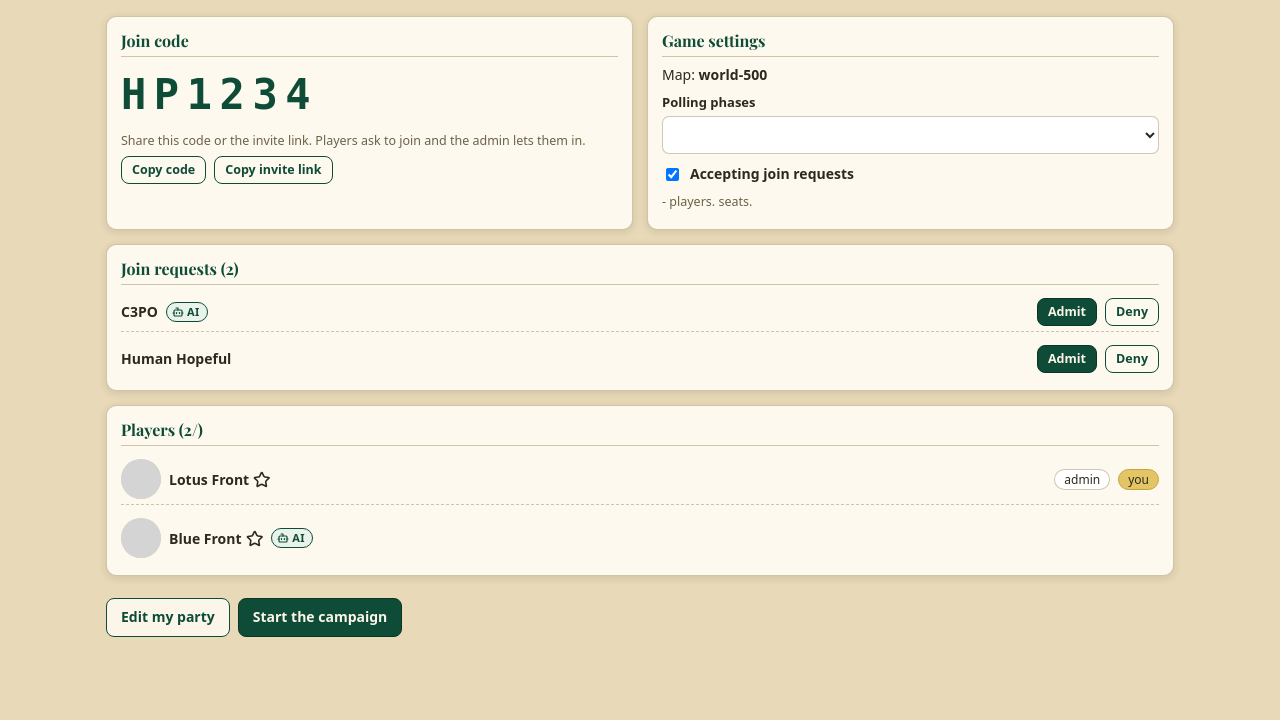
Scenario: Lobby › sharing the game › Copy invite link copies a join link for this game
Click the button "Copy invite link" at (273, 170), box [214,156,332,184]
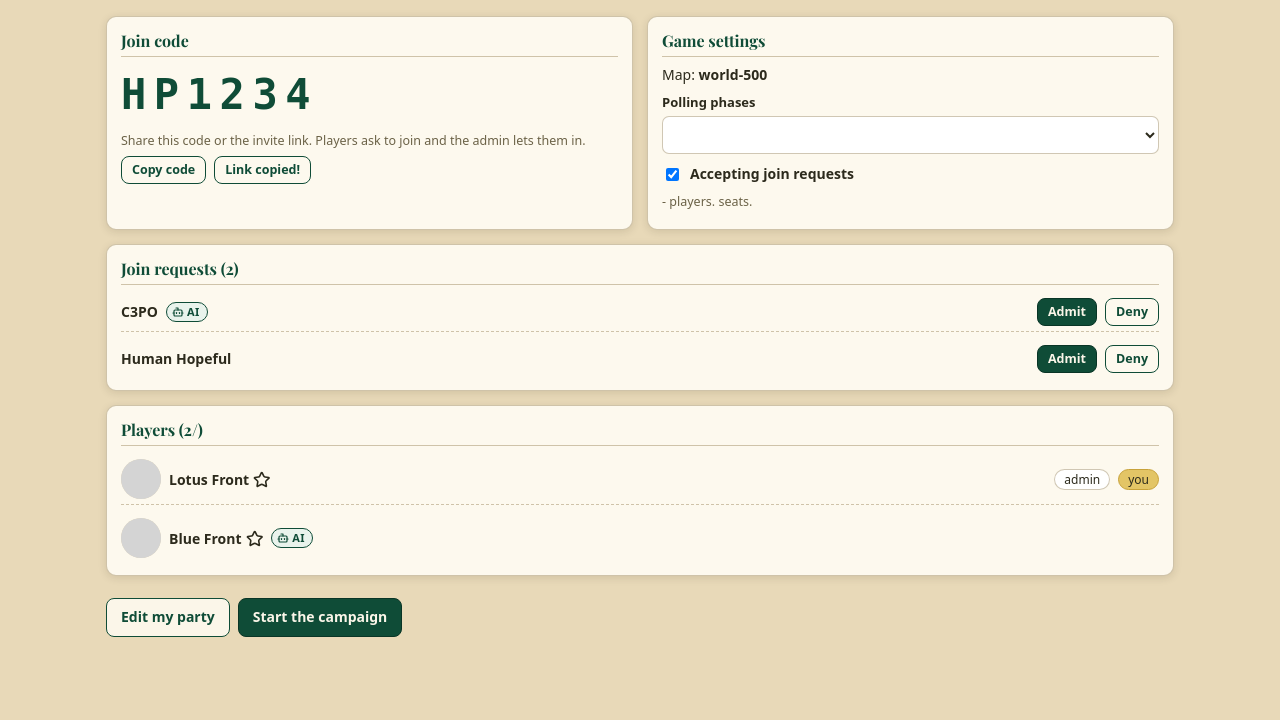
Expected: the text "HP1234" is shown, [121,70,318,119]
Now the button "Link copied!" is shown, box [214,156,311,184]
